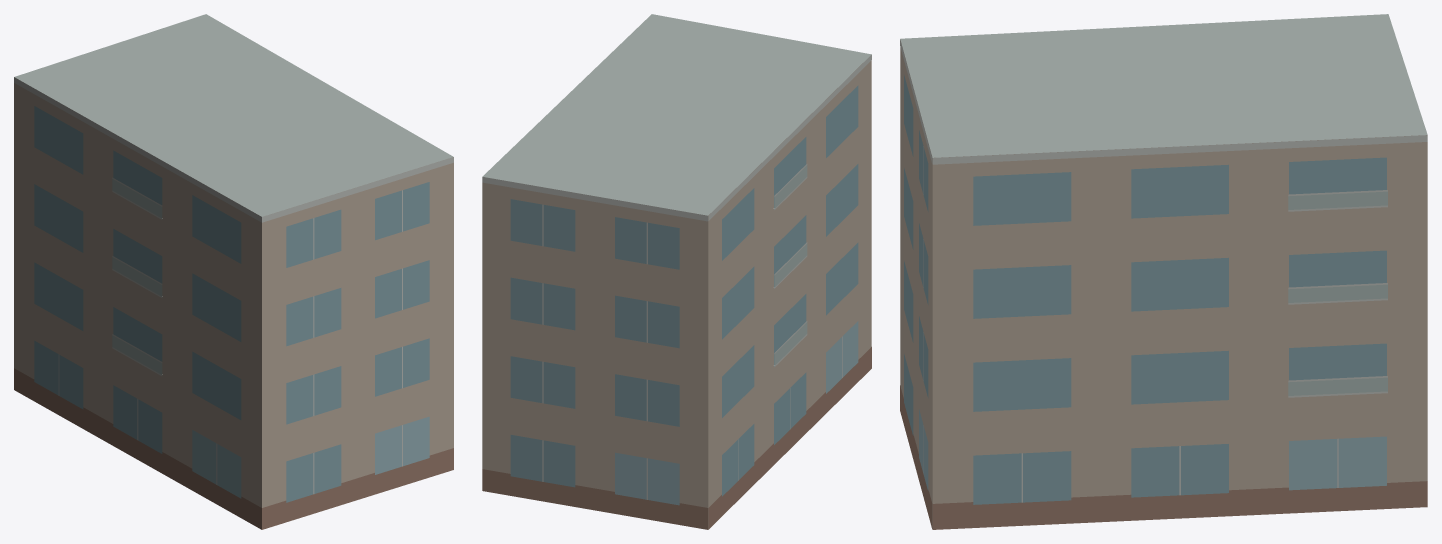
The model's file is survey-upis-33029950.glb.
3 views of the same model, side by side, from view 1: azimuth 30°, elevation 25°; view 2: azimuth 150°, elevation 25°; view 3: azimuth 270°, elevation 25° (orthographic). The views are drawn at different scales.
Parts seen in each view (by area): view 1: survey-upis-33029950.tmp; view 2: survey-upis-33029950.tmp; view 3: survey-upis-33029950.tmp.
Boxes of the visible parts, x1,y1,x2,y2 form: survey-upis-33029950.tmp: (14, 14, 453, 529); survey-upis-33029950.tmp: (482, 14, 871, 529); survey-upis-33029950.tmp: (900, 14, 1427, 529).
Bounding box in the file's own units: 10.96 × 13.2 × 16.98.
